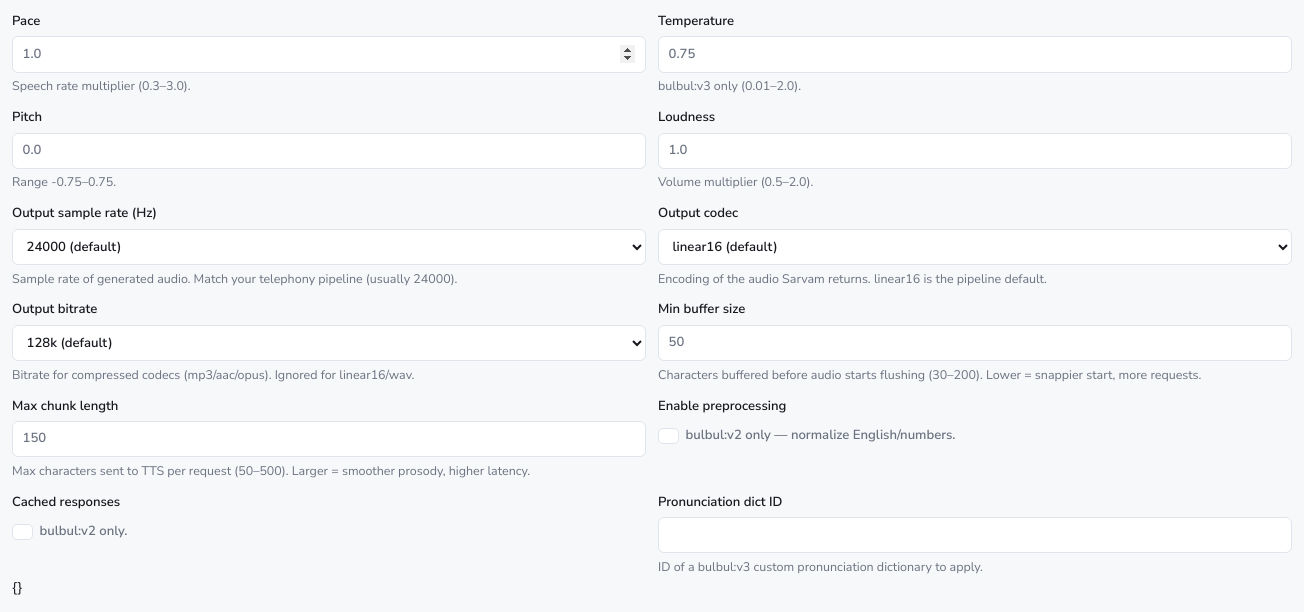
Test: ProviderOptionsEditor › warns when a numeric value is outside the spec min/max but still stores it
Type "9" into the number field labelled "Pace".
click(329, 54); type("9")  # box [12,36,646,72]
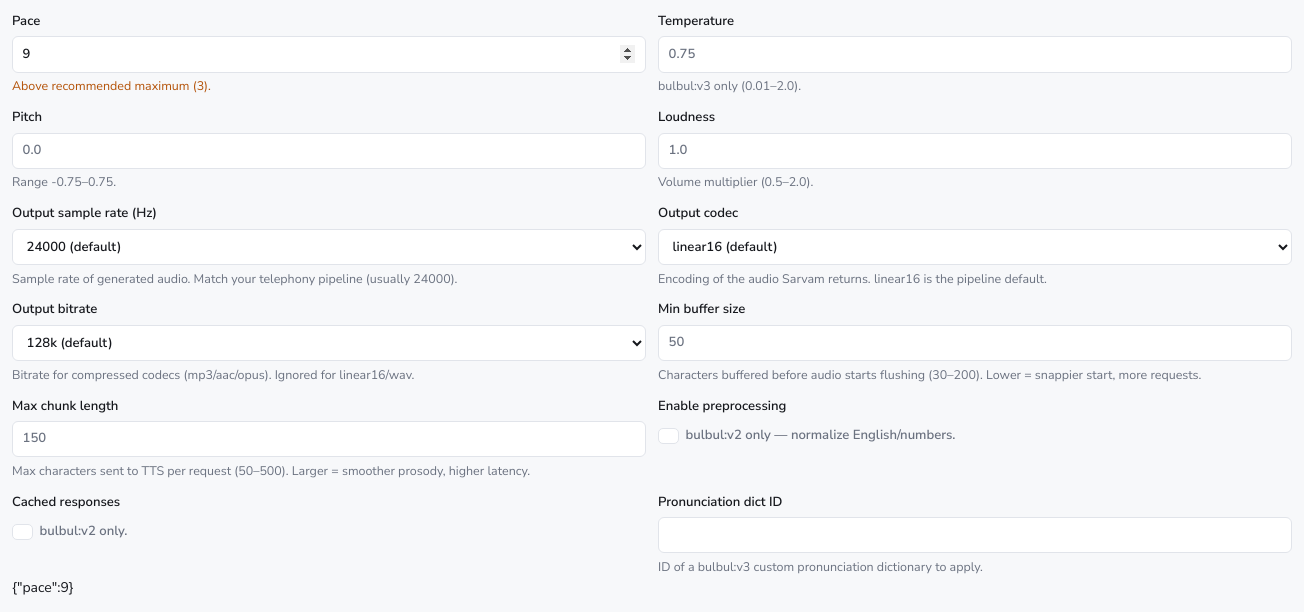
Now the message shows "Above recommended maximum", box [12,77,211,94]
